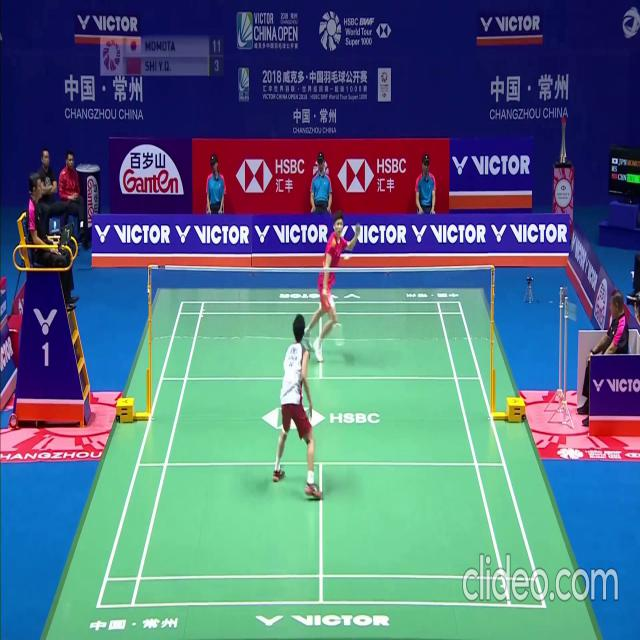Shuttlecock: (345, 253, 350, 260)
